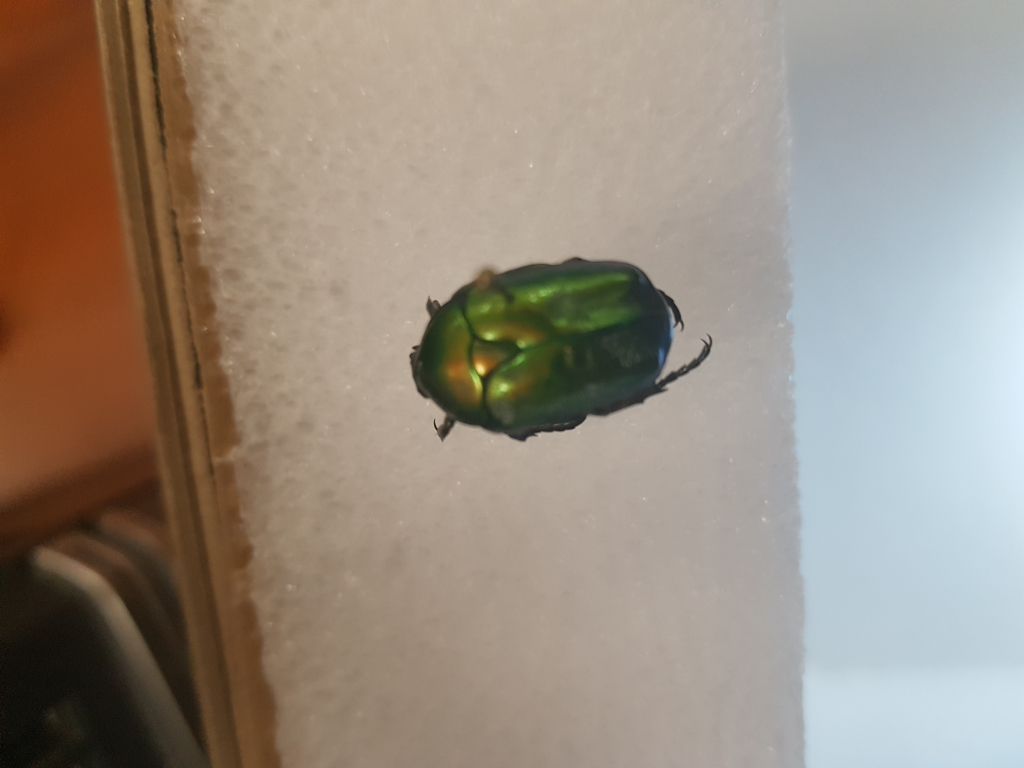Protaetia_cuprea_ignicollis: (391, 254, 739, 444)
